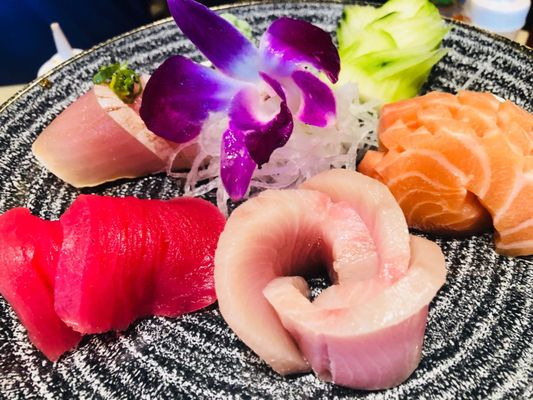pizza: (460, 0, 532, 37)
